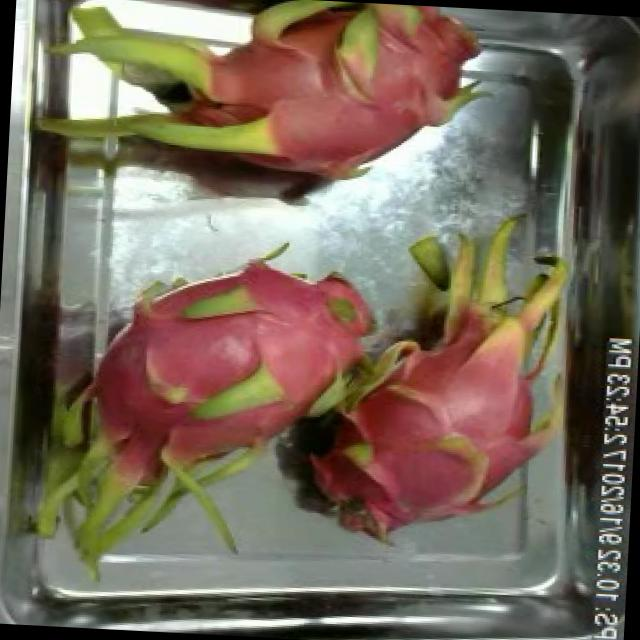Fruit: (293, 0, 502, 171)
